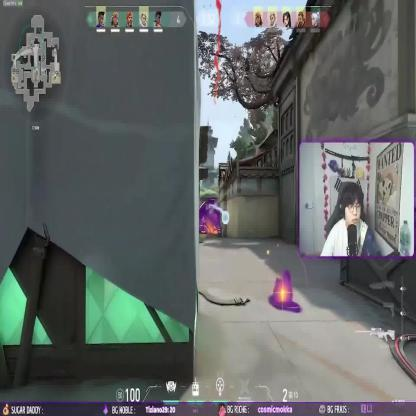enemy: (201, 216, 205, 232)
enemy_head: (202, 216, 204, 219)
